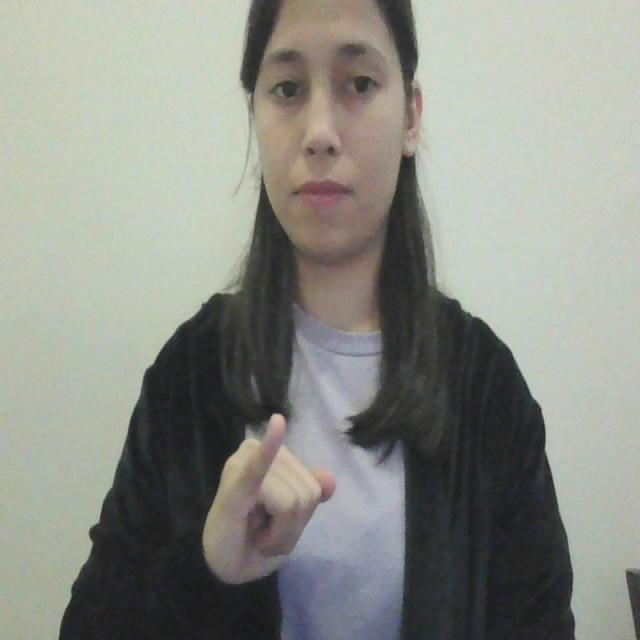kotu: (203, 405, 345, 594)
